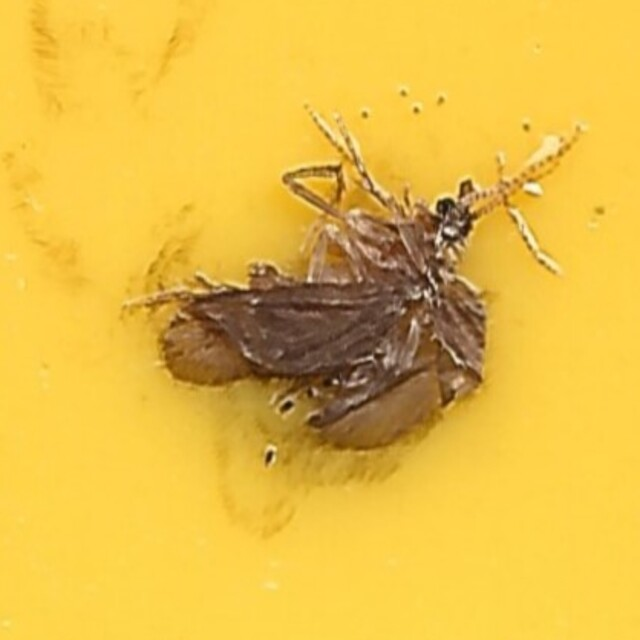Trichoptera: (153, 184, 487, 456)
